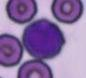L: (23, 19, 65, 58)
